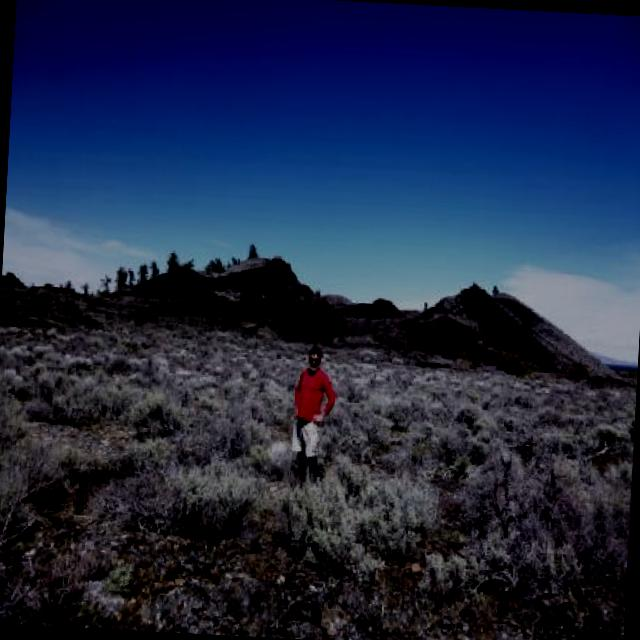Person: (284, 330, 338, 474)
